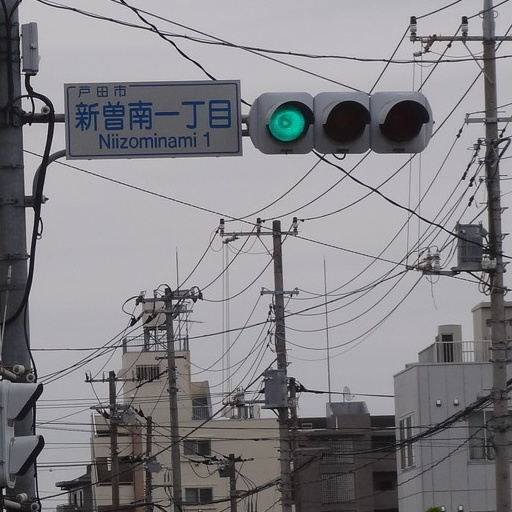Traffic_Signal_Blue: (249, 86, 438, 157)
